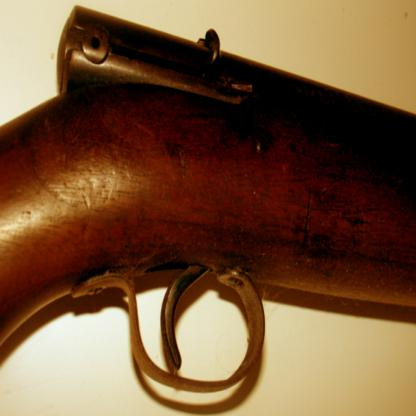Handgun: (0, 5, 416, 392)
